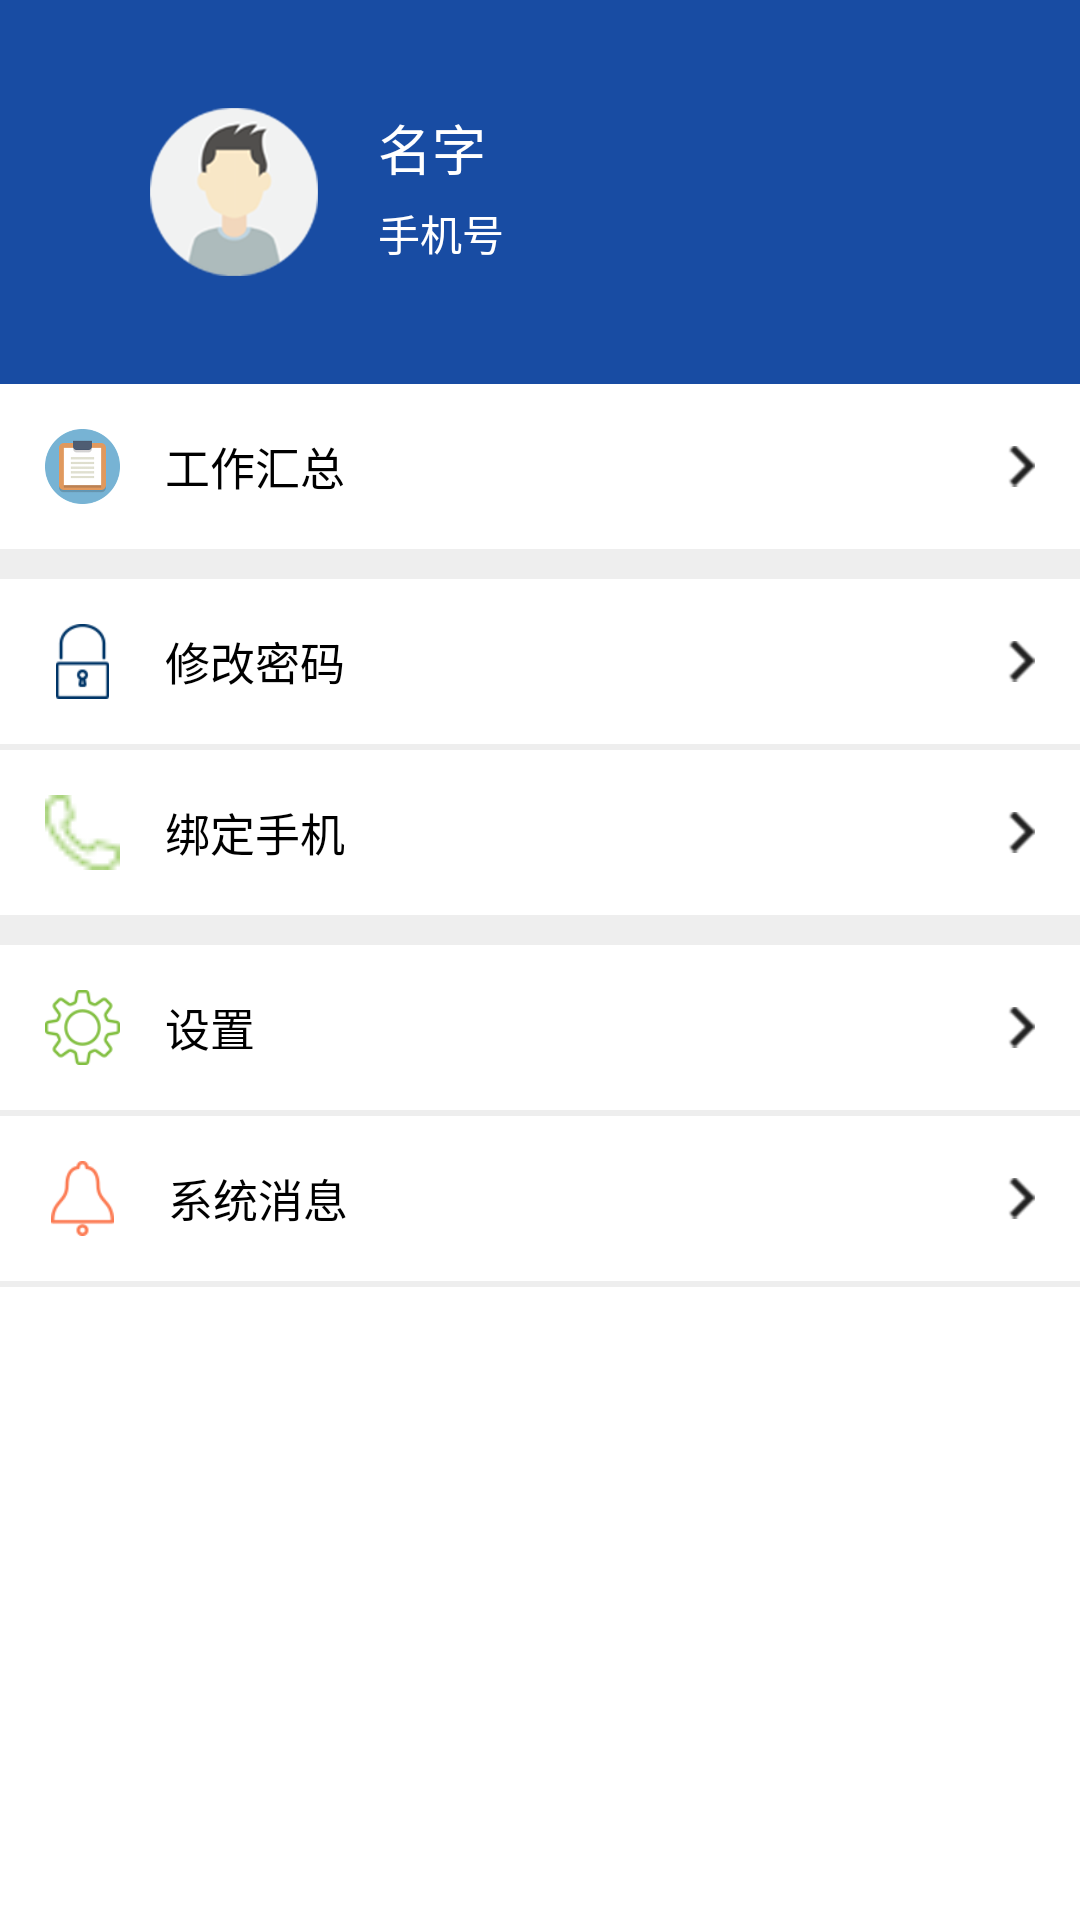

Icon click points for this 1080w x 1920h phone screenshot, format (x=x, y=y):
boy: (x=234, y=192)
clipboard: (x=82, y=466)
navigate next: (x=1022, y=466), (x=1022, y=661), (x=1022, y=832), (x=1022, y=1027), (x=1022, y=1198)
password: (x=82, y=661)
phone number: (x=82, y=832)
set up: (x=82, y=1027)
system message: (x=82, y=1198)
